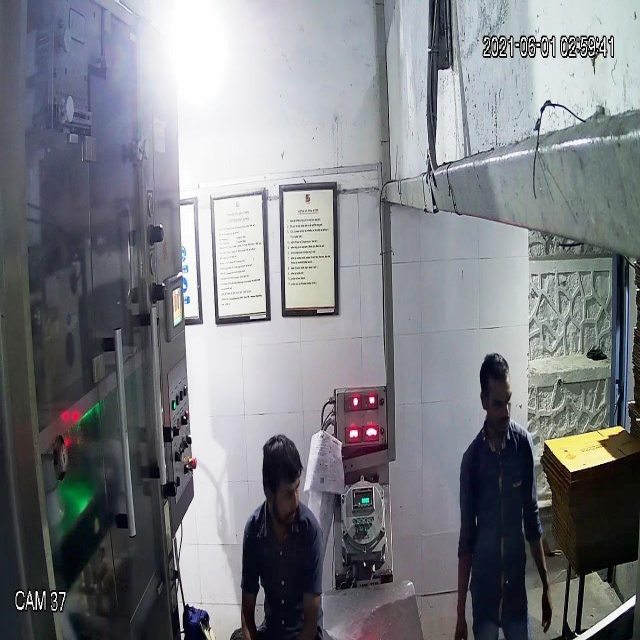Sin_gafas: (257, 474, 304, 508), (480, 390, 517, 418)
